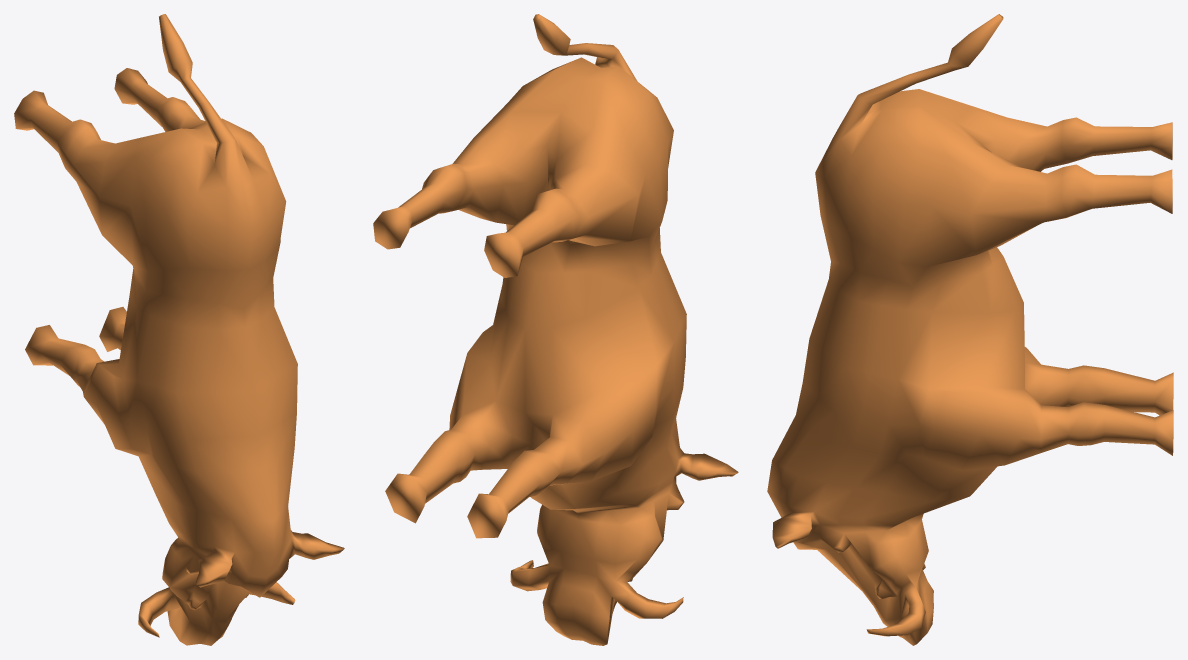
The model's file is warthog_model.obj.
The picture shows the model from 3 angles, left to right: view 1: azimuth 30°, elevation 25°; view 2: azimuth 150°, elevation 25°; view 3: azimuth 270°, elevation 25°; orthographic projection. The views are drawn at different scales.
Bounding box in the file's own units: 0.3461 × 1.27 × 0.7527.
